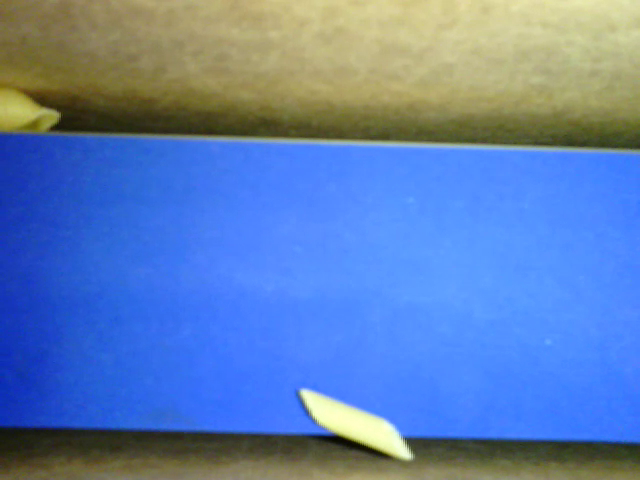penne: (296, 383, 414, 463)
shell: (1, 83, 64, 133)
